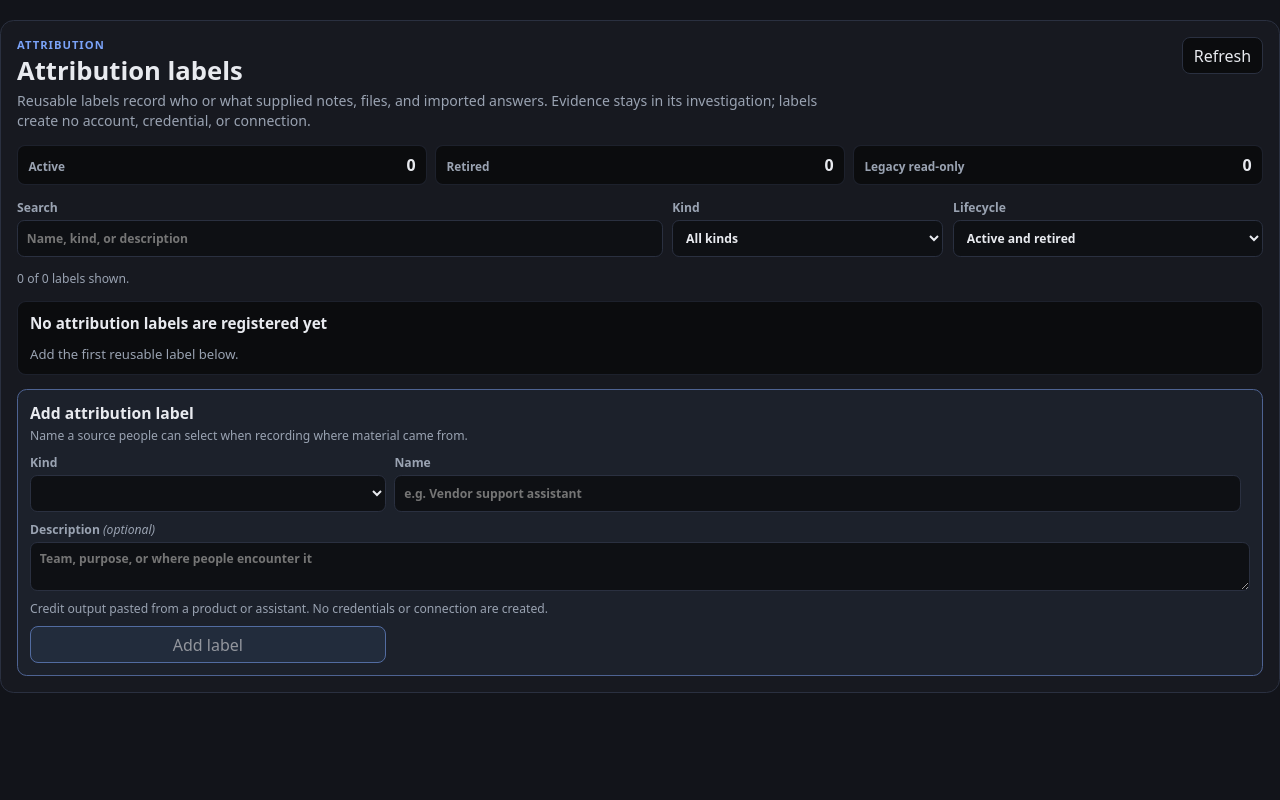
Scenario: Source Catalog Console › locks all writes and retries the exact saved request after network
Expected: the heading "No attribution labels are registered yet" is shown, [30,313,327,333]
Step 1. Type "Uncertain assistant" into the field labelled "Name" → (818, 494), box [394,475,1241,512]
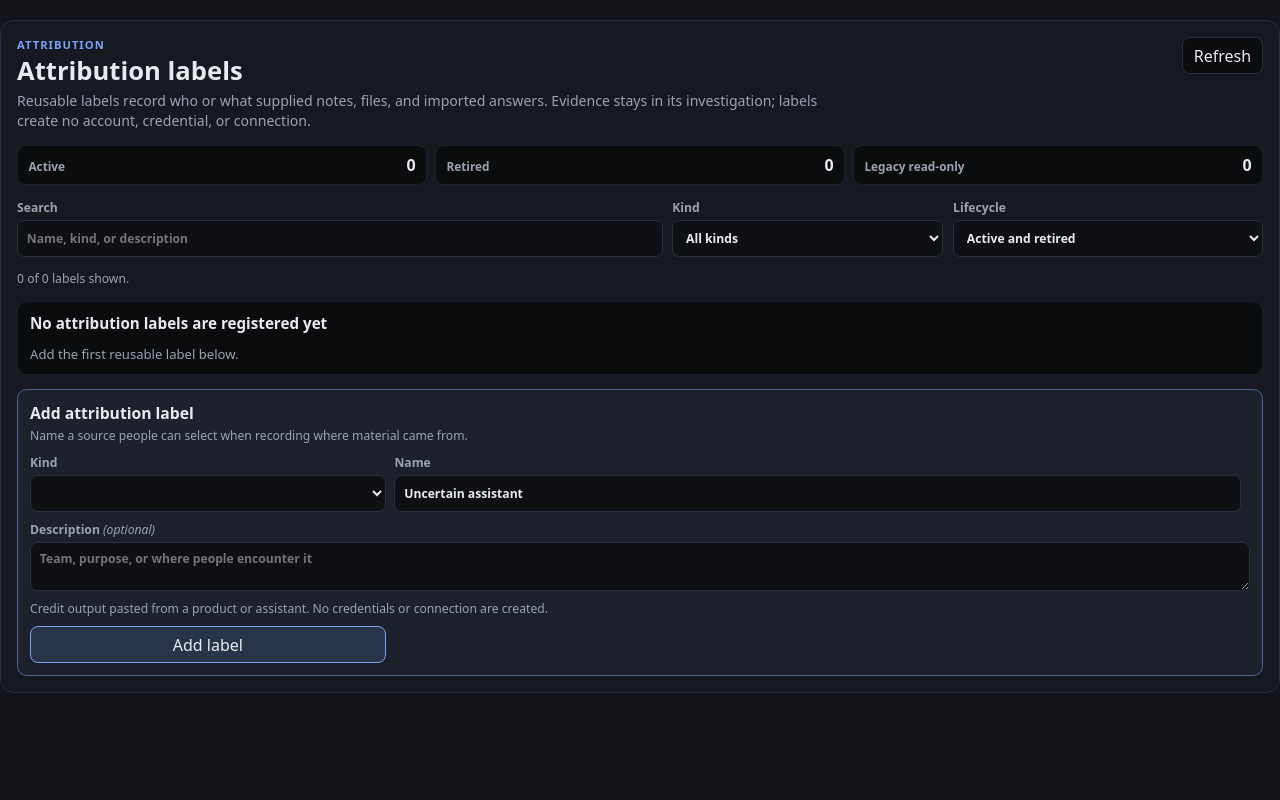
Step 2. Click the button "Add label" → (208, 645), box [30,626,386,663]
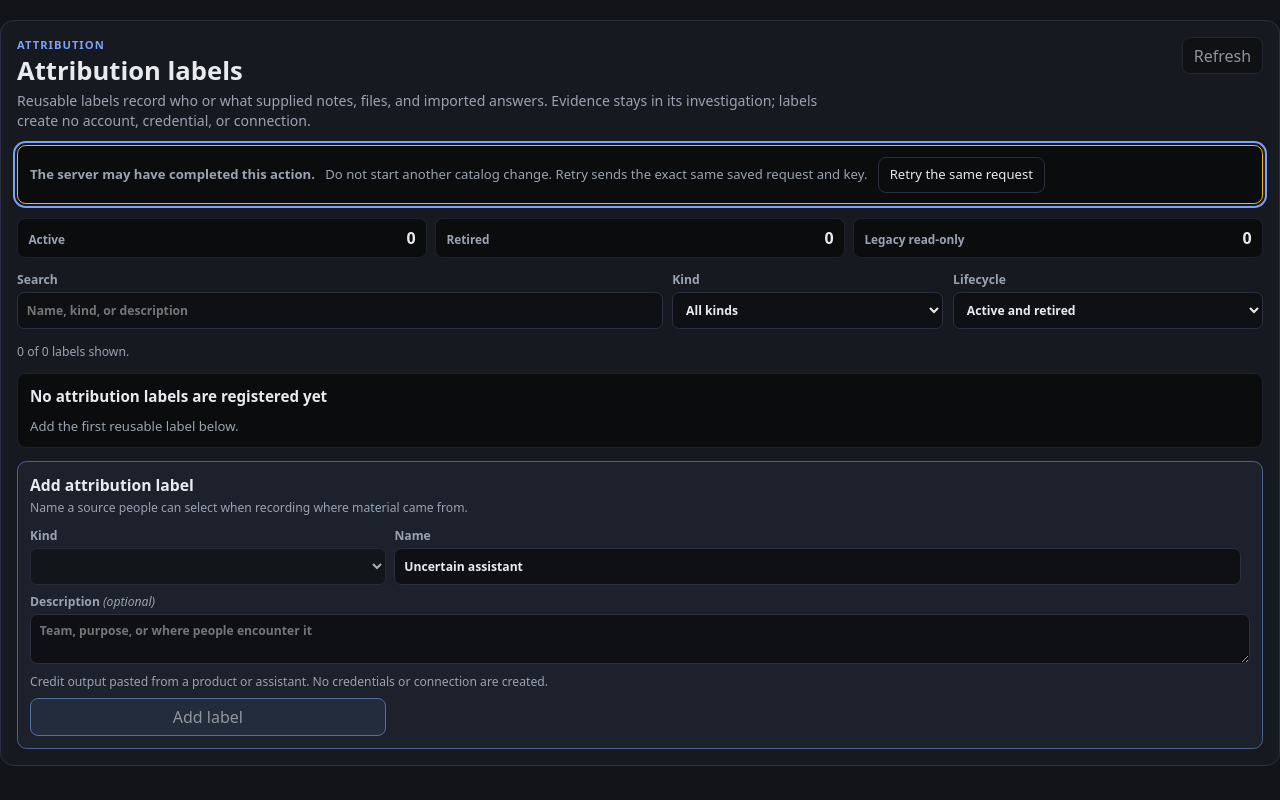
Now the message shows "may have completed", box [30,165,315,183]
Now the button "Add label" is disabled, box [30,698,386,736]
Step 3. Click the button "Retry the same request" → (961, 175), box [878,157,1045,193]
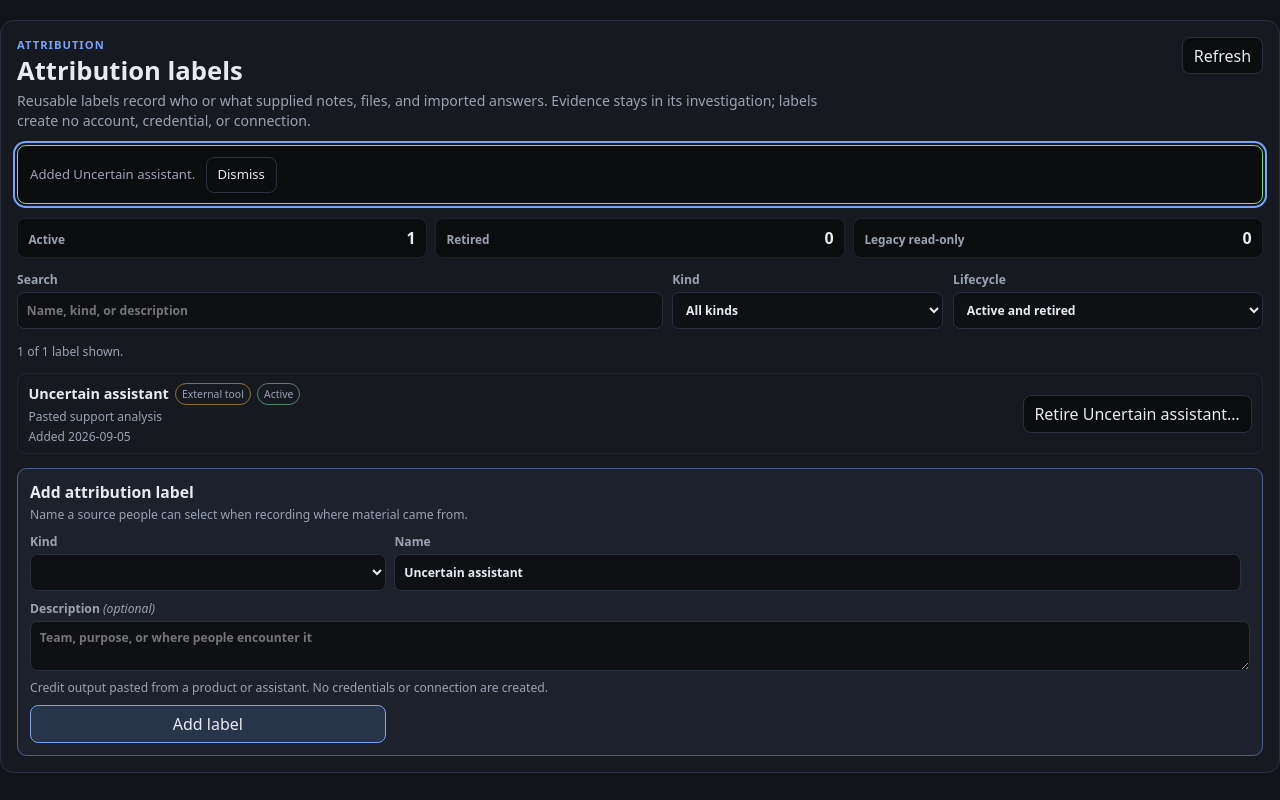
Now the text "Added Uncertain assistant." is shown, box [30,165,195,184]
